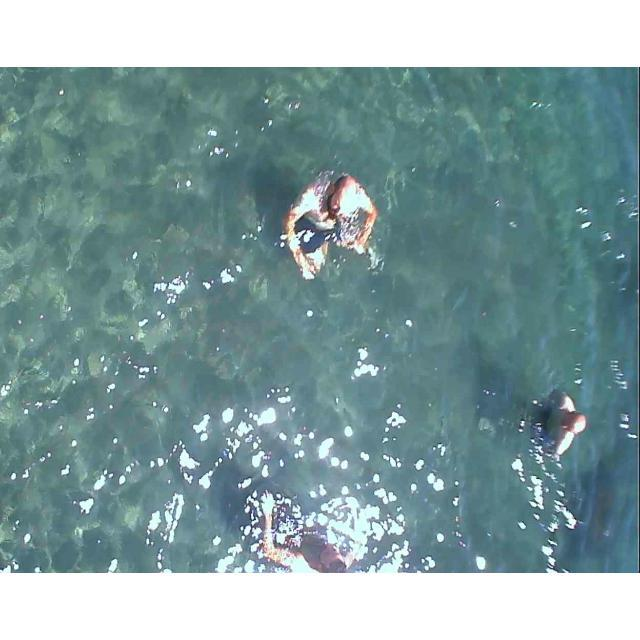human: (290, 160, 395, 275), (540, 388, 592, 465)
